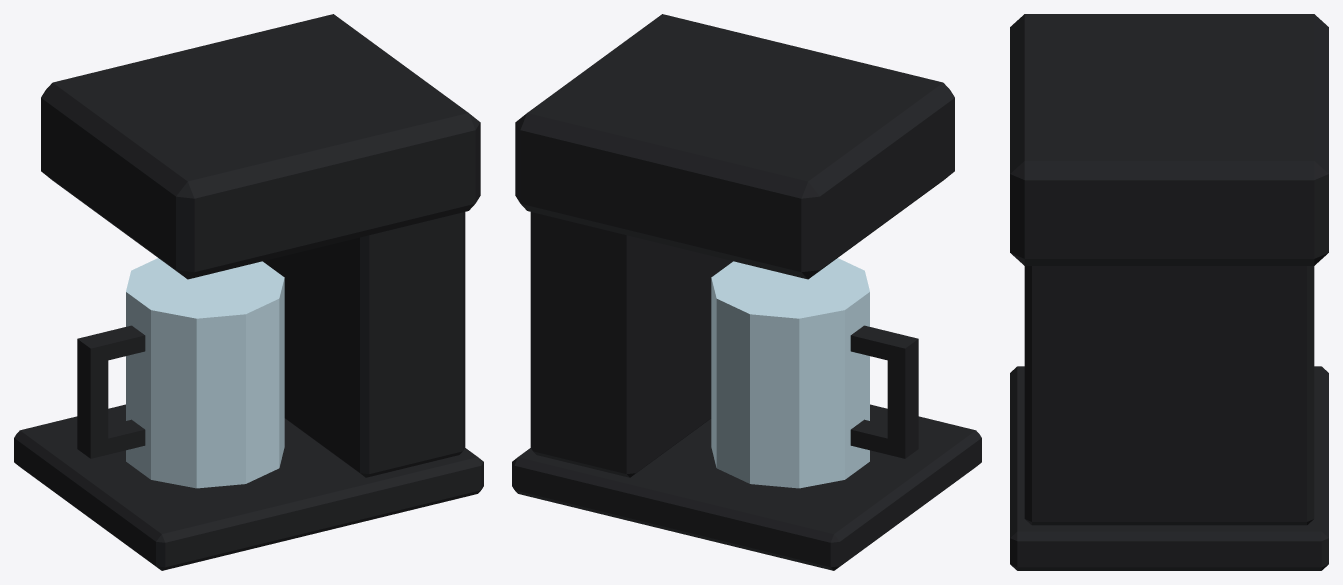
File: Cafetera.fbx
3 renders of one model, left to right at view 1: azimuth 30°, elevation 25°; view 2: azimuth 150°, elevation 25°; view 3: azimuth 270°, elevation 25°, orthographic. The views are drawn at different scales.
Parts seen in each view (by area): view 1: coffee_Cafetera; view 2: coffee_Cafetera; view 3: coffee_Cafetera.
Part boxes in pixels (<box>): coffee_Cafetera: <box>14,14,483,570</box>; coffee_Cafetera: <box>512,14,981,570</box>; coffee_Cafetera: <box>1010,14,1328,570</box>.
Bounding box in the file's own units: 0.2809 × 0.31 × 0.22.
